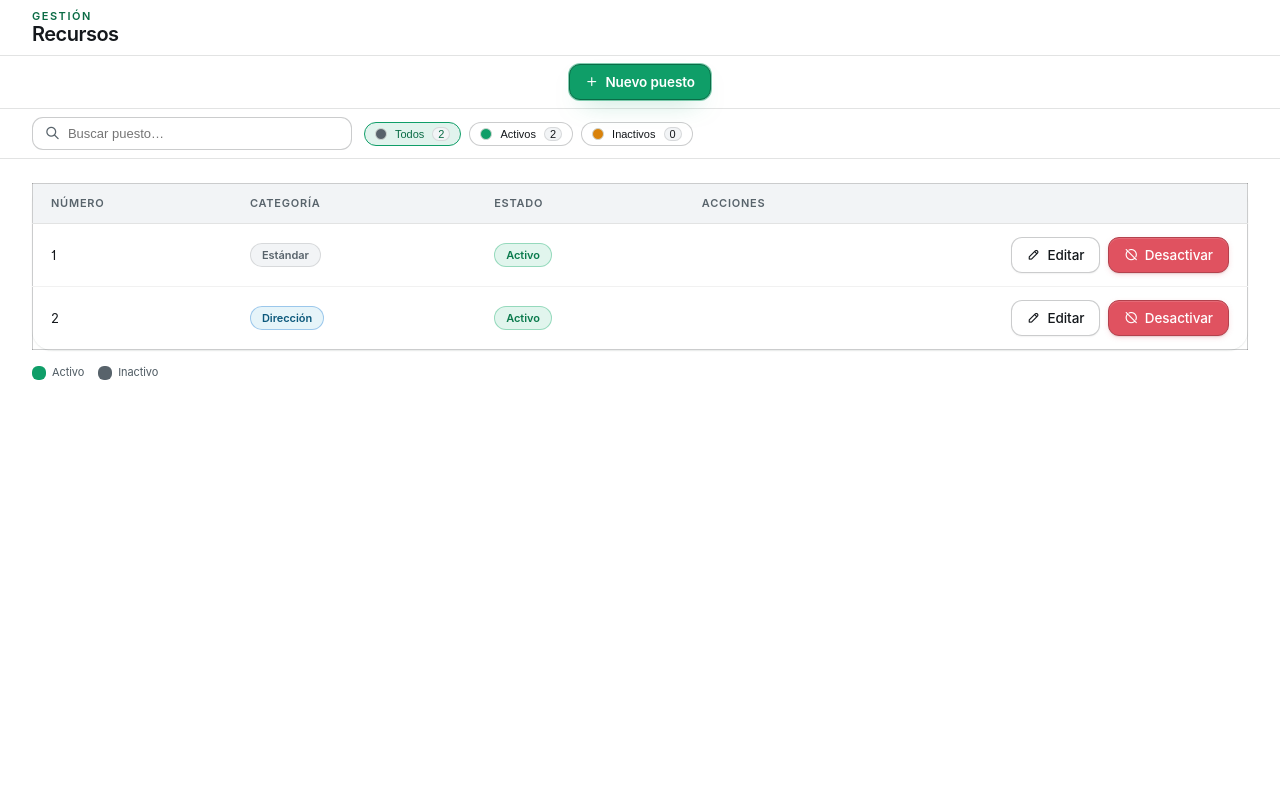
Test: DesksPage › should_open_create_form_when_clicking_new
The image size is (1280, 800).
Expected: the text "1" is shown, [32,224,232,286]
Click the button "Nuevo puesto" at (640, 82), box [569,64,711,100]
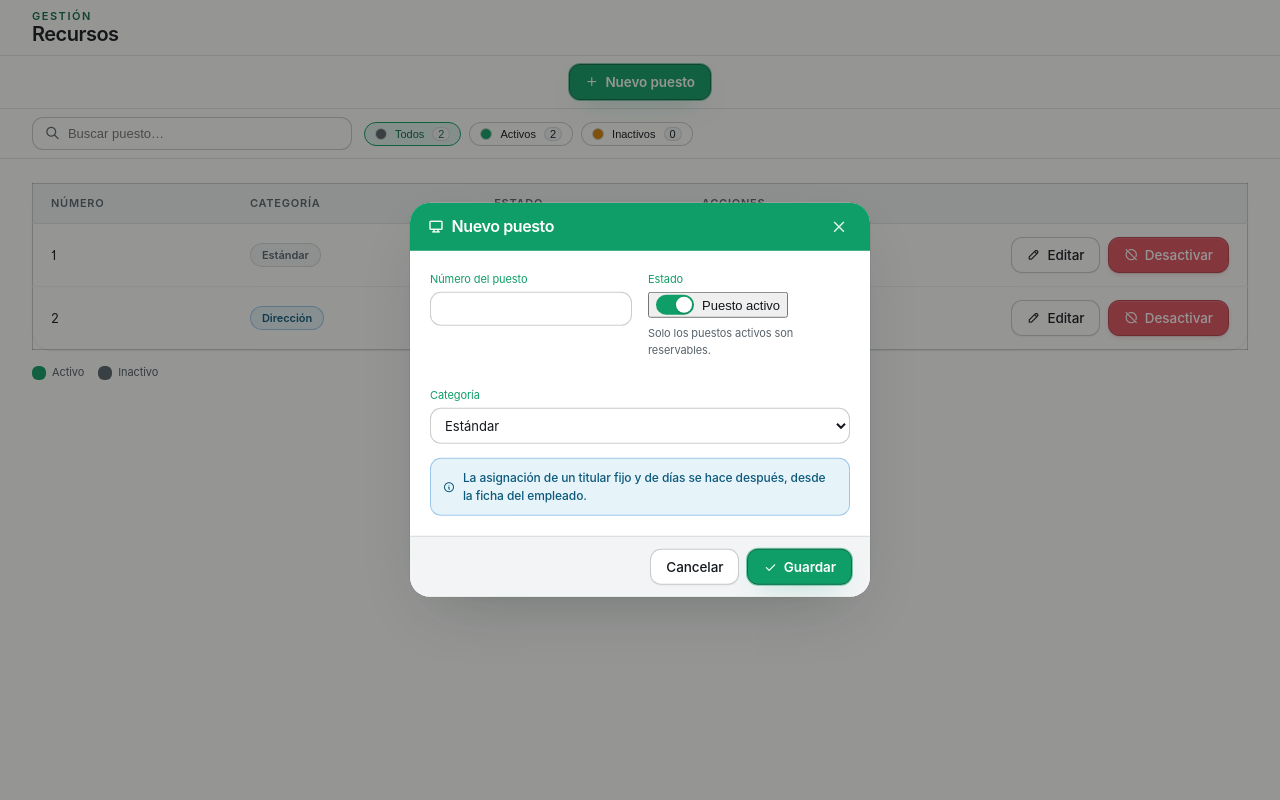
Result: the heading "Nuevo puesto" is shown at [428,218,554,236]
